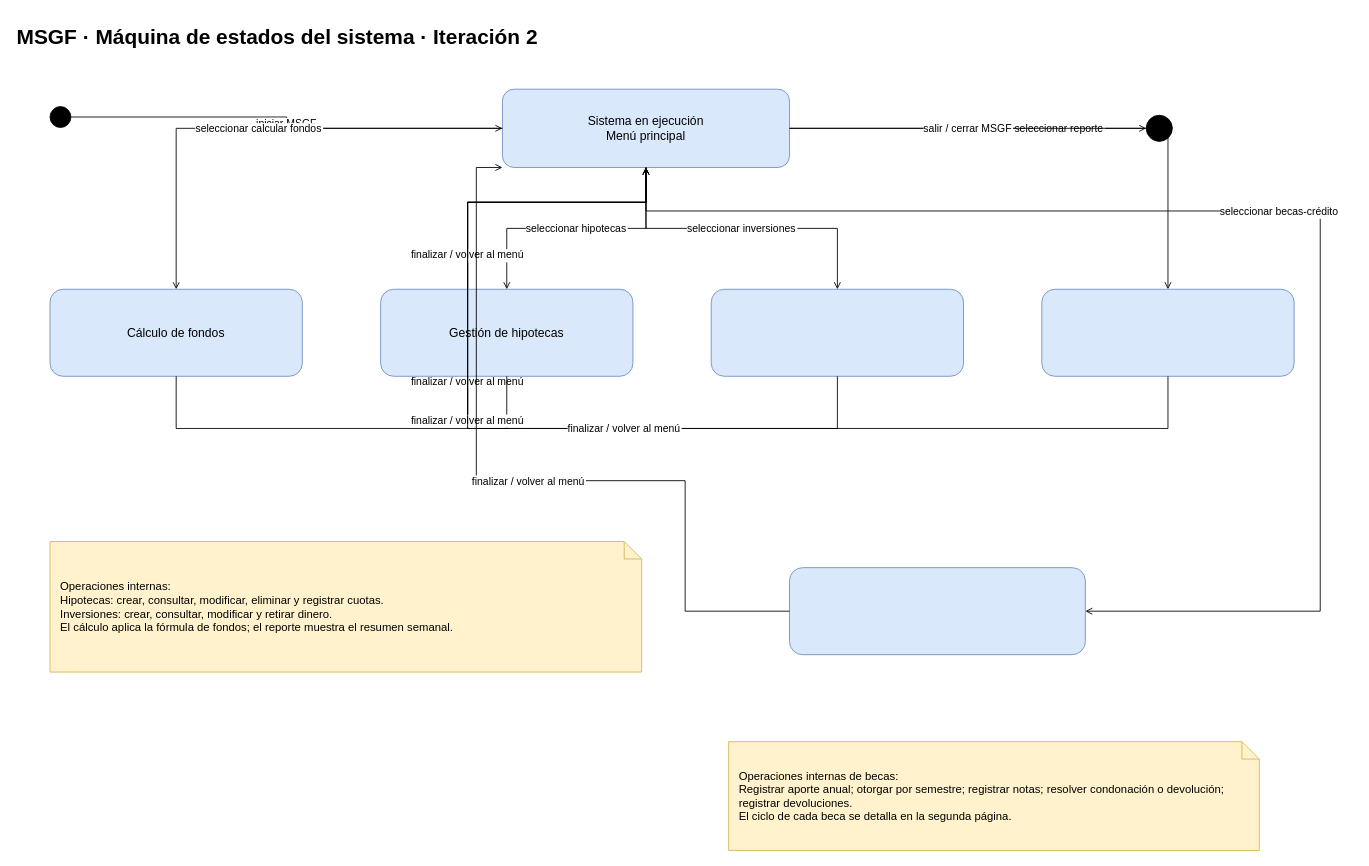
This 1369x866 diagram has some shape labels left out. Each missing label, with the centre of its shape:
"Generación de reporte" belongs at point 1167,332.
"Gestión de becas-crédito" belongs at point 937,611.
"Gestión de inversiones" belongs at point 837,332.
